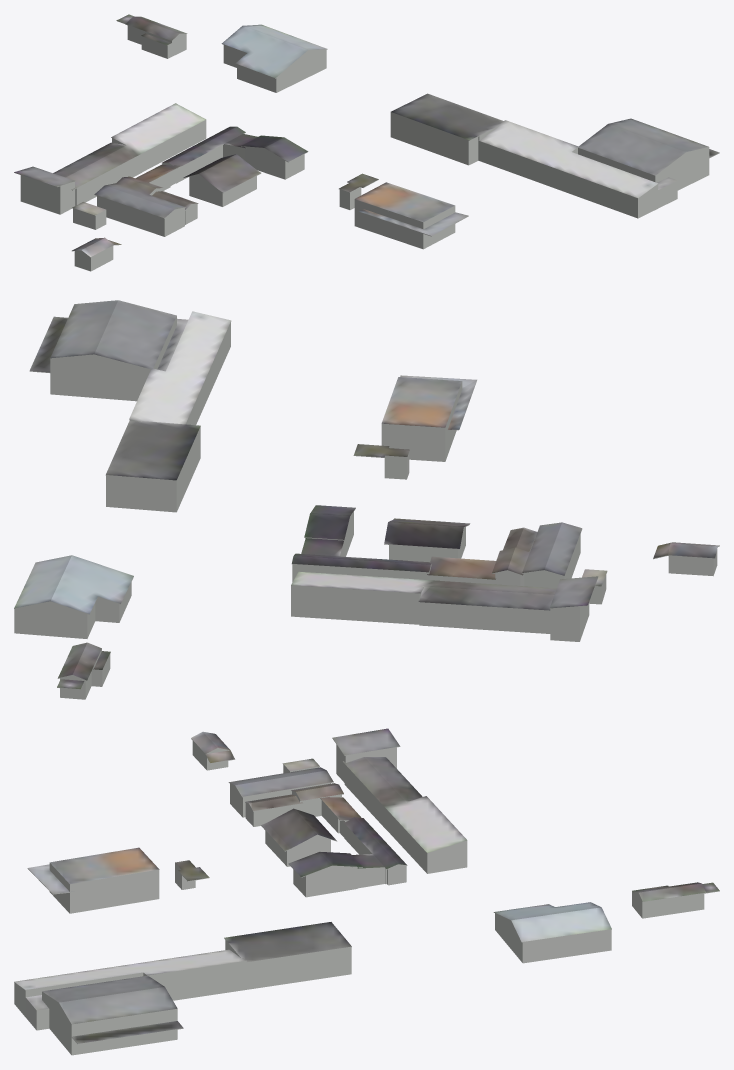
The model's file is LSZB_-1_-2.glb.
3 renders of one model, top to bottom at view 1: azimuth 30°, elevation 25°; view 2: azimuth 150°, elevation 25°; view 3: azimuth 270°, elevation 25°, orthographic. The views are drawn at different scales.
Visible parts, largest first — view 1: building_506fc26015c83c08, building_04ef555d52107fc0, building_58ca122f4d8f443f, building_7e09408e0b913e0d, building_de6916c616c9c6b2, building_cdd7d4eb94a543b0; view 2: building_04ef555d52107fc0, building_506fc26015c83c08, building_de6916c616c9c6b2, building_cdd7d4eb94a543b0, building_58ca122f4d8f443f, building_7e09408e0b913e0d; view 3: building_04ef555d52107fc0, building_506fc26015c83c08, building_58ca122f4d8f443f, building_7e09408e0b913e0d, building_de6916c616c9c6b2, building_cdd7d4eb94a543b0.
Part boxes in pixels (<box>): building_506fc26015c83c08: <box>391,93,719,198</box>; building_04ef555d52107fc0: <box>14,126,468,257</box>; building_58ca122f4d8f443f: <box>20,144,455,271</box>; building_7e09408e0b913e0d: <box>390,112,709,218</box>; building_de6916c616c9c6b2: <box>53,14,327,187</box>; building_cdd7d4eb94a543b0: <box>75,25,326,205</box>; building_04ef555d52107fc0: <box>291,375,719,608</box>; building_506fc26015c83c08: <box>29,300,231,480</box>; building_de6916c616c9c6b2: <box>14,555,556,689</box>; building_cdd7d4eb94a543b0: <box>14,582,550,699</box>; building_58ca122f4d8f443f: <box>292,382,717,641</box>; building_7e09408e0b913e0d: <box>50,317,230,512</box>; building_04ef555d52107fc0: <box>27,728,407,894</box>; building_506fc26015c83c08: <box>14,922,351,1044</box>; building_58ca122f4d8f443f: <box>49,741,406,913</box>; building_7e09408e0b913e0d: <box>14,940,351,1055</box>; building_de6916c616c9c6b2: <box>344,757,719,942</box>; building_cdd7d4eb94a543b0: <box>344,765,704,963</box>.
Size of the model in its own units: 237 by 14.11 by 227.
Materials: 2 (1 with a texture image).
